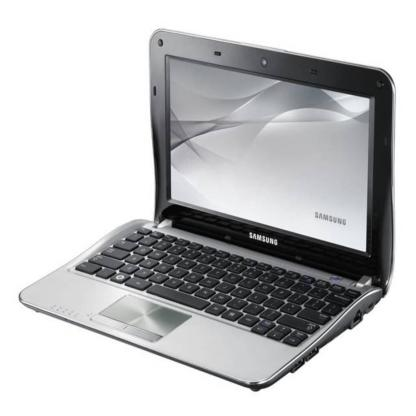board: (17, 21, 416, 400)
